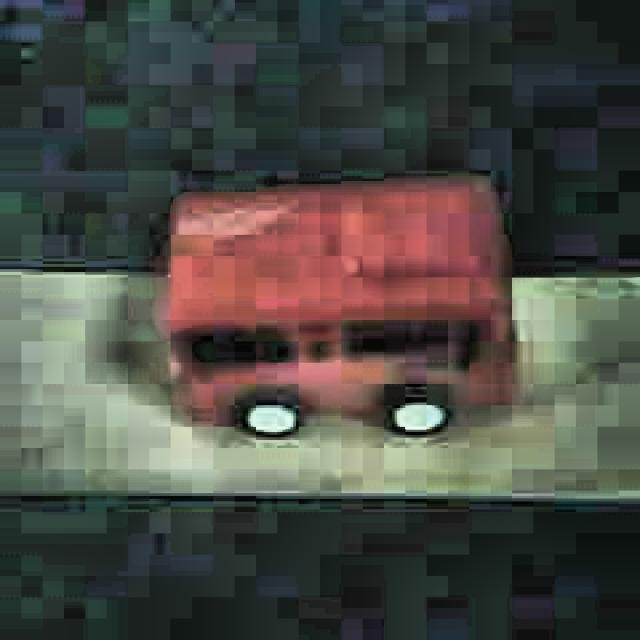bus: (162, 174, 514, 442)
